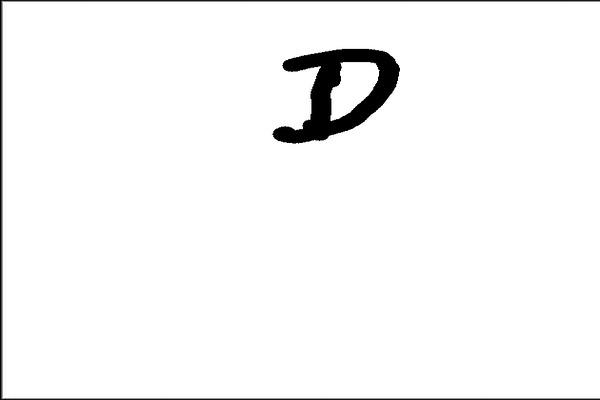D: (264, 43, 403, 148)
